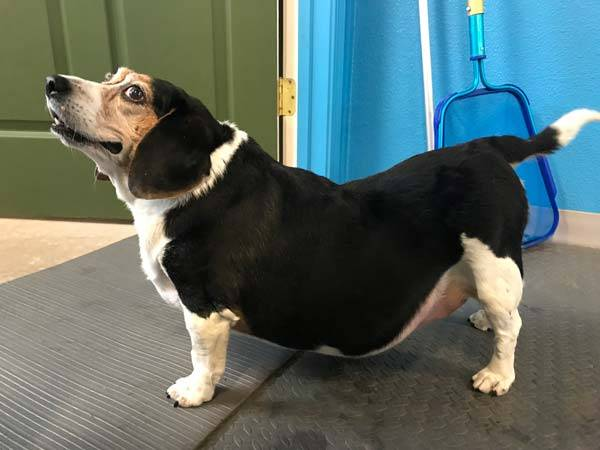dog: (34, 59, 600, 412)
